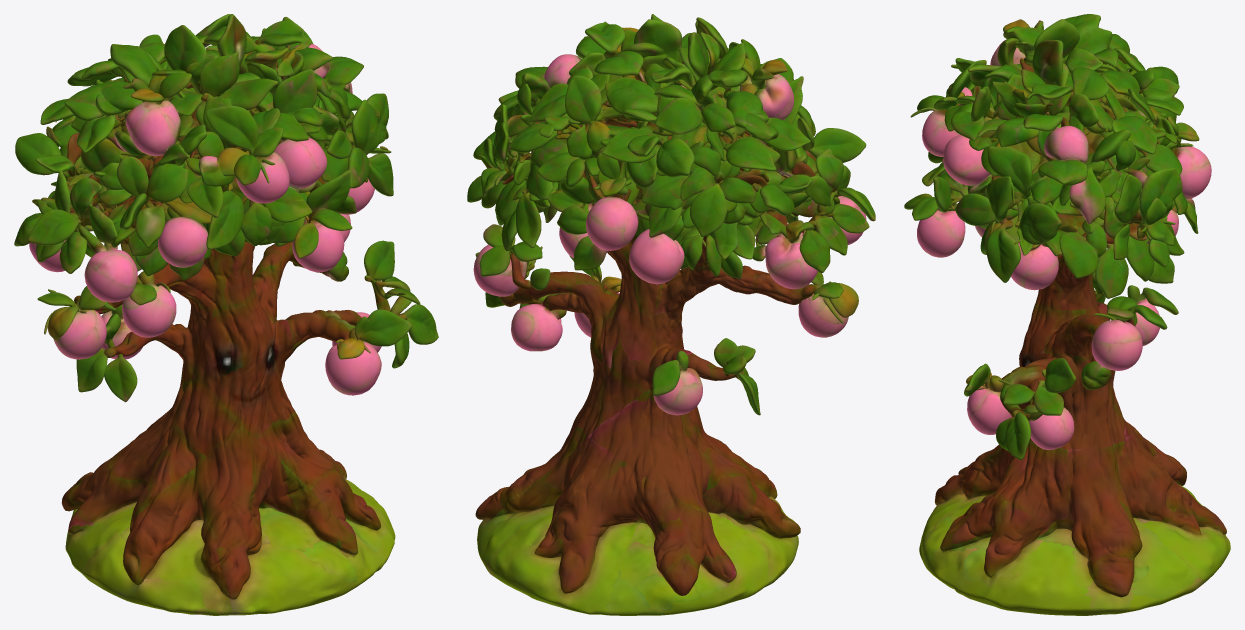
Rendered from guardian_tree.glb.
3 renders of one model, left to right at view 1: azimuth 30°, elevation 25°; view 2: azimuth 150°, elevation 25°; view 3: azimuth 270°, elevation 25°, orthographic. The views are drawn at different scales.
Bounding box in the file's own units: 1.49 × 1.9 × 1.1.
Materials: 1 (1 with a texture image).
